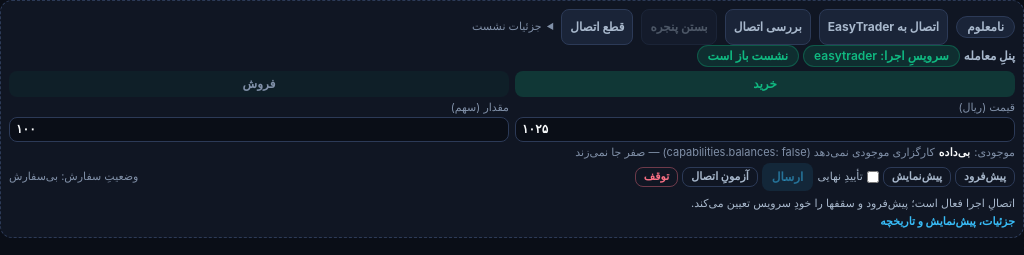
Test case: درِ رابط فقط با پشتیبانِ واقعی باز می‌شود › توقف وضعیتِ سفارش را عوض نمی‌کند، فقط خطِ پاسخ را
Click the button with test id "watch-kill-switch".
click(656, 177)  # box [635,167,678,187]
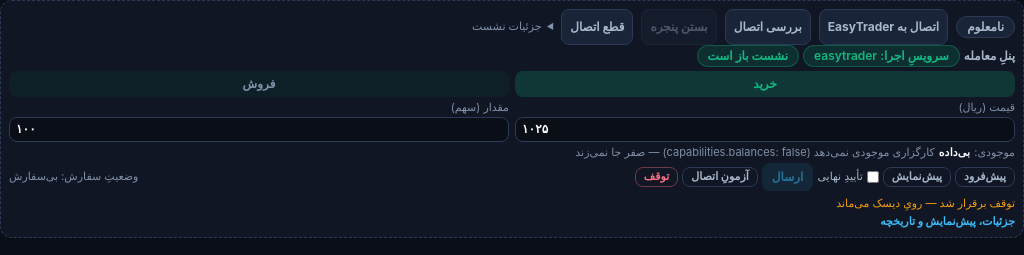
Expected: the text with test id "watch-order-phase" shows "بی‌سفارش", [9,169,58,183]
Now the text with test id "watch-order-reason" shows "توقف برقرار شد", box [836,196,1015,210]
